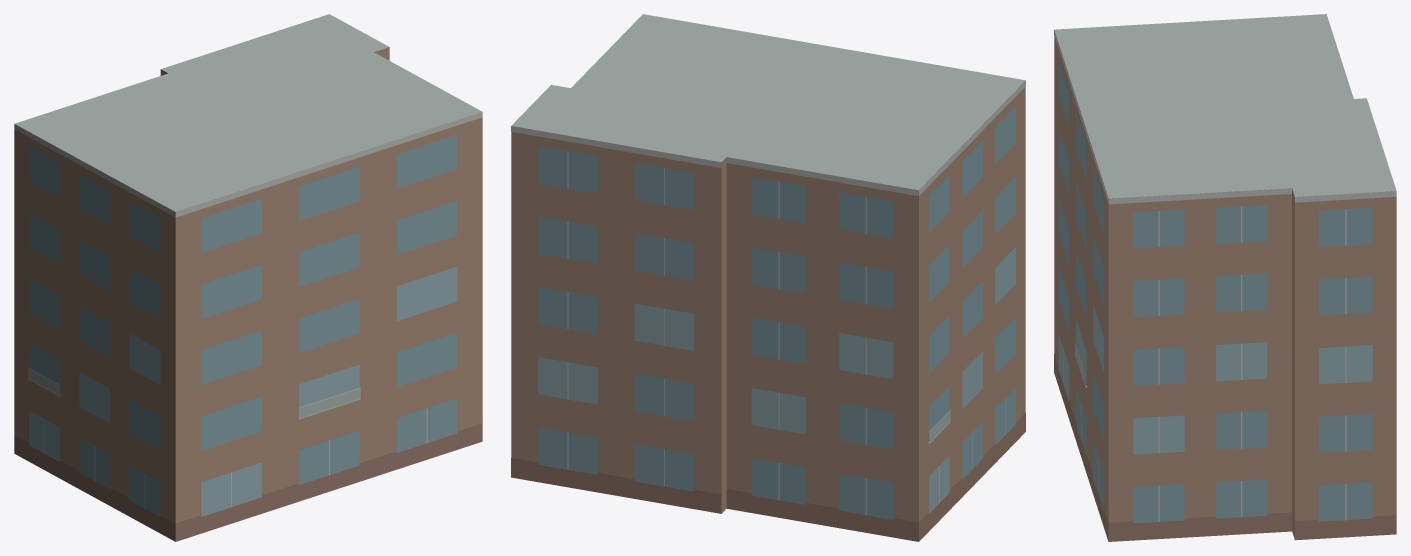
File: survey-upis-32959263.glb
3 renders of one model, left to right at view 1: azimuth 30°, elevation 25°; view 2: azimuth 150°, elevation 25°; view 3: azimuth 270°, elevation 25°, orthographic. The views are drawn at different scales.
Visible parts, largest first — view 1: survey-upis-32959263.tmp; view 2: survey-upis-32959263.tmp; view 3: survey-upis-32959263.tmp.
Boxes of the visible parts, bbox=[...] form: survey-upis-32959263.tmp: bbox=[14, 14, 482, 541]; survey-upis-32959263.tmp: bbox=[511, 14, 1025, 541]; survey-upis-32959263.tmp: bbox=[1054, 14, 1396, 541].
Size of the model in its own units: 16.8 by 14.55 by 13.17.
